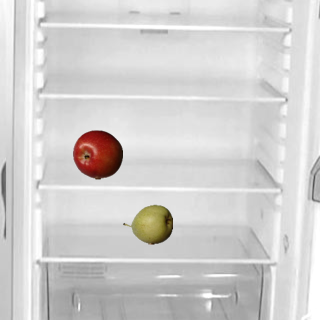Apple Braeburn: (72, 129, 122, 179)
Pear: (122, 199, 172, 249)
